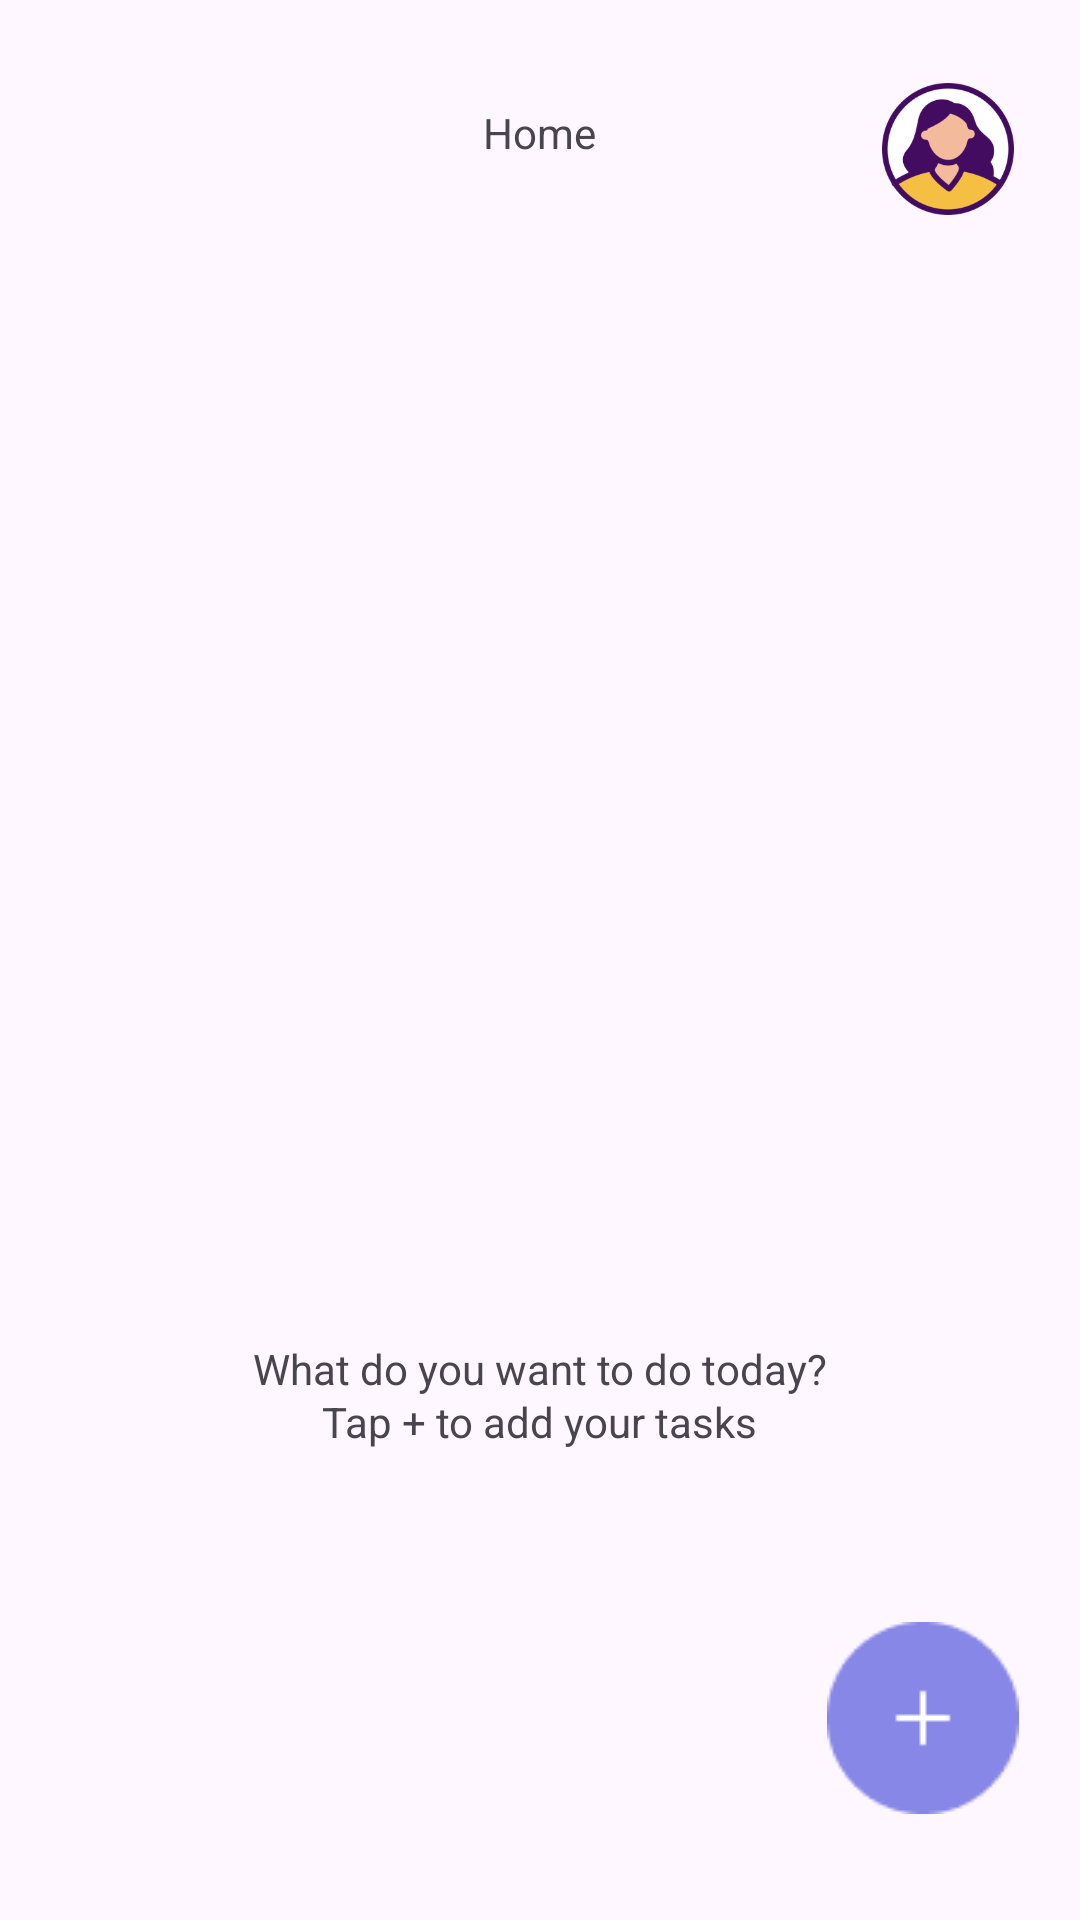

Named icons in this screenshot (1080×1920) and their centers, point (x, y):
user: point (948, 149)
